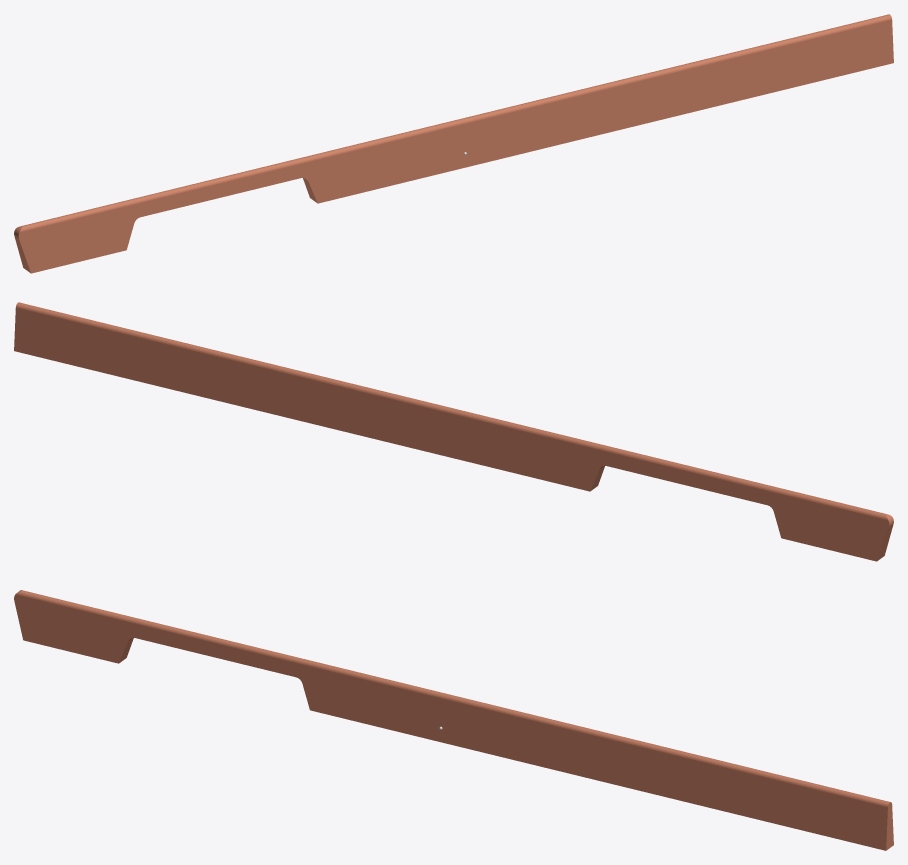
File: 183 pvd r gold.glb
3 views of the same model, one above another, from view 1: azimuth 30°, elevation 25°; view 2: azimuth 150°, elevation 25°; view 3: azimuth 330°, elevation 25° (orthographic).
Parts seen in each view (by area): view 1: CABINET_HANDLE_183; view 2: CABINET_HANDLE_183; view 3: CABINET_HANDLE_183.
Boxes of the visible parts, left/top/right/bottom form: CABINET_HANDLE_183: left=14, top=14, right=893, bottom=273; CABINET_HANDLE_183: left=14, top=302, right=893, bottom=561; CABINET_HANDLE_183: left=14, top=590, right=893, bottom=850.
Size of the model in its own units: 22.4 by 1.12 by 0.7508.
